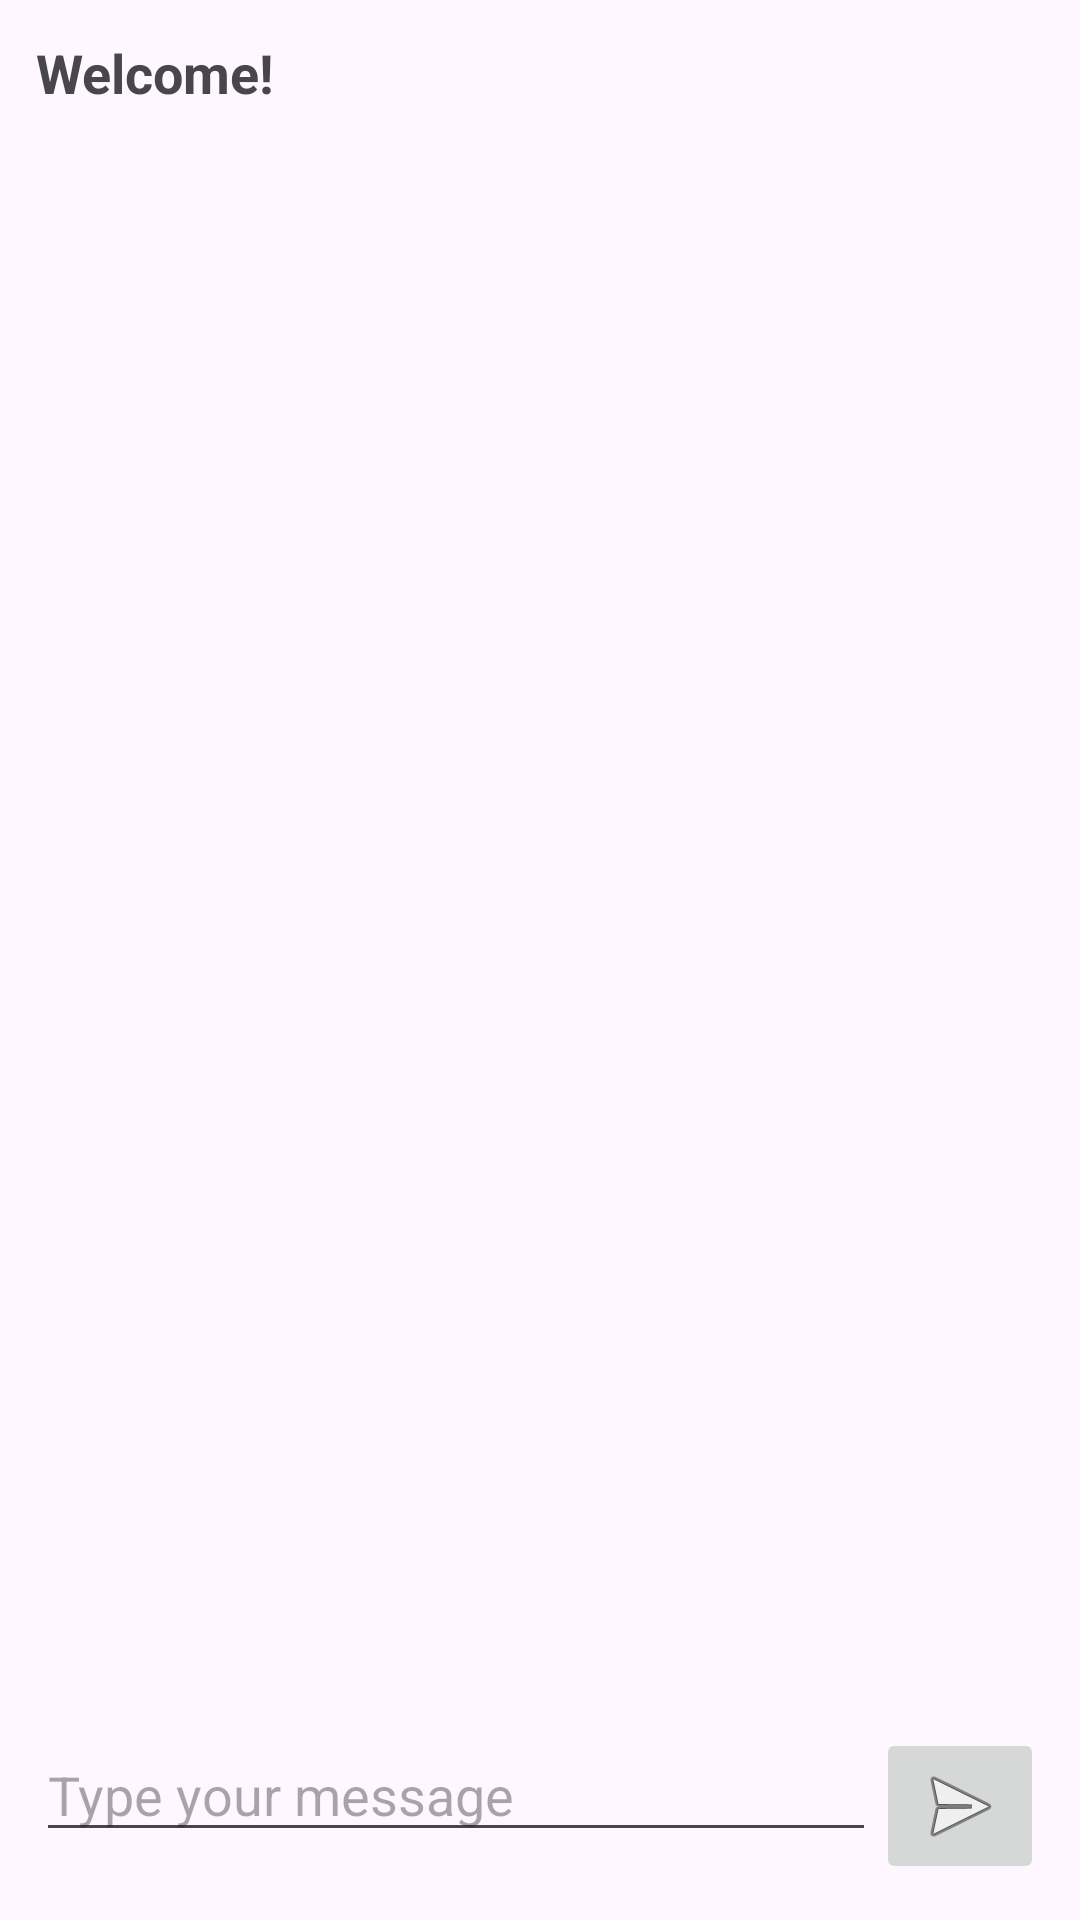

Named icons in this screenshot (1080×1920) and their bounding boxes, (x1, y1, x2, y2):
Send: (888, 1746, 1032, 1866)
